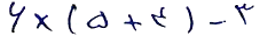character: (233, 4, 258, 29), (8, 1, 27, 33), (67, 4, 83, 34), (122, 14, 145, 32), (33, 12, 53, 32), (183, 5, 195, 35), (151, 7, 168, 28), (87, 12, 109, 28), (208, 20, 229, 32)
